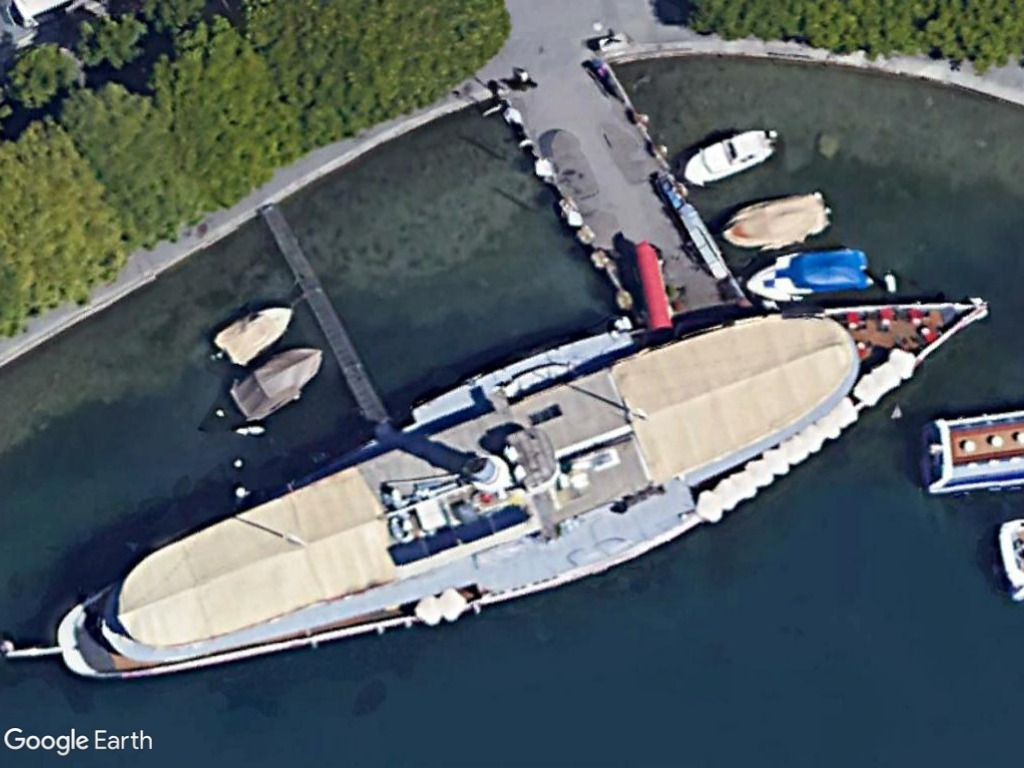boat: (53, 296, 989, 685), (228, 345, 324, 424), (743, 246, 874, 303), (720, 188, 835, 251), (681, 123, 778, 190), (212, 301, 295, 366)
